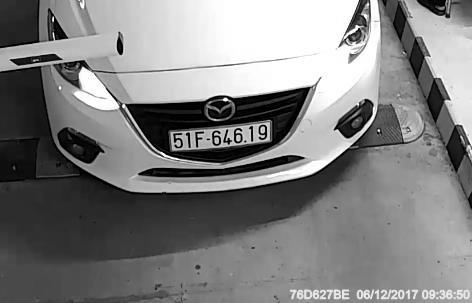License-plate: (164, 118, 276, 156)
